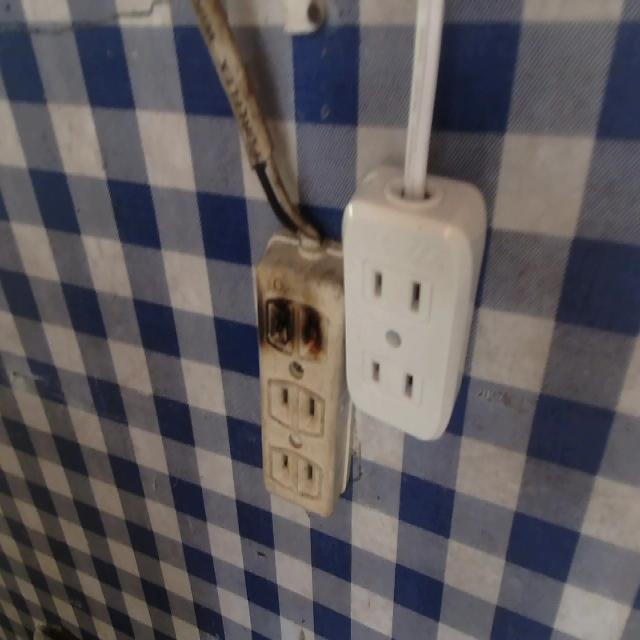-: (252, 272, 337, 367)
